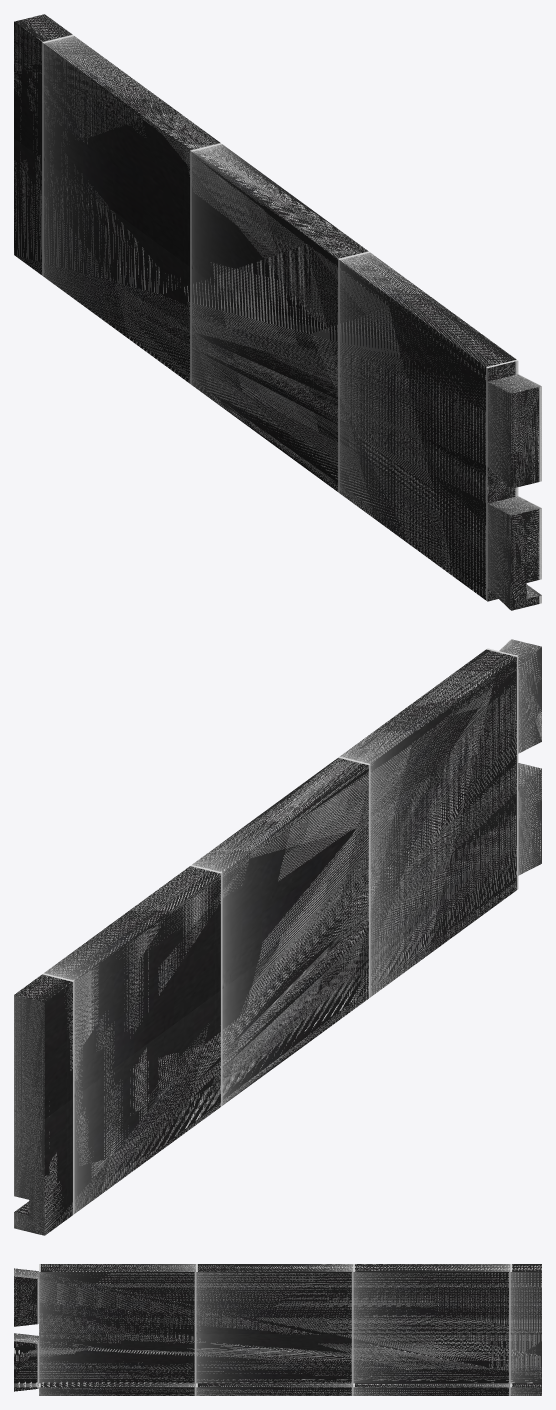
The model's file is original-32.obj.
3 views of the same model, one above another, from view 1: azimuth 30°, elevation 25°; view 2: azimuth 150°, elevation 25°; view 3: azimuth 270°, elevation 25° (orthographic). The views are drawn at different scales.
Parts seen in each view (by area): view 1: Drawer_Side2/Drawer_Side12/mesh21/mesh21-geometry#mesh21-geometr; view 2: Drawer_Side2/Drawer_Side12/mesh21/mesh21-geometry#mesh21-geometr; view 3: Drawer_Side2/Drawer_Side12/mesh21/mesh21-geometry#mesh21-geometr.
Boxes of the visible parts, <box> form: Drawer_Side2/Drawer_Side12/mesh21/mesh21-geometry#mesh21-geometr: <box>14,14,541,610</box>; Drawer_Side2/Drawer_Side12/mesh21/mesh21-geometry#mesh21-geometr: <box>14,639,541,1235</box>; Drawer_Side2/Drawer_Side12/mesh21/mesh21-geometry#mesh21-geometr: <box>14,1264,541,1395</box>.
Bounding box in the file's own units: 0.0147 × 0.1065 × 0.4114.
